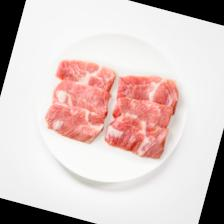meat: (112, 64, 184, 118), (102, 108, 171, 162), (40, 99, 108, 147), (49, 76, 113, 120), (110, 92, 174, 134), (54, 53, 119, 94)
